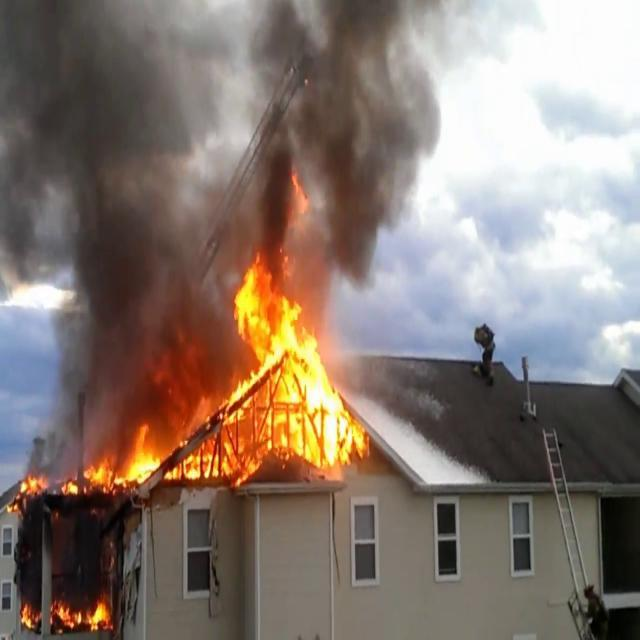Fire: (212, 260, 366, 476), (15, 429, 176, 502), (51, 590, 112, 635), (18, 597, 38, 633)
Smoke: (0, 0, 448, 350)
